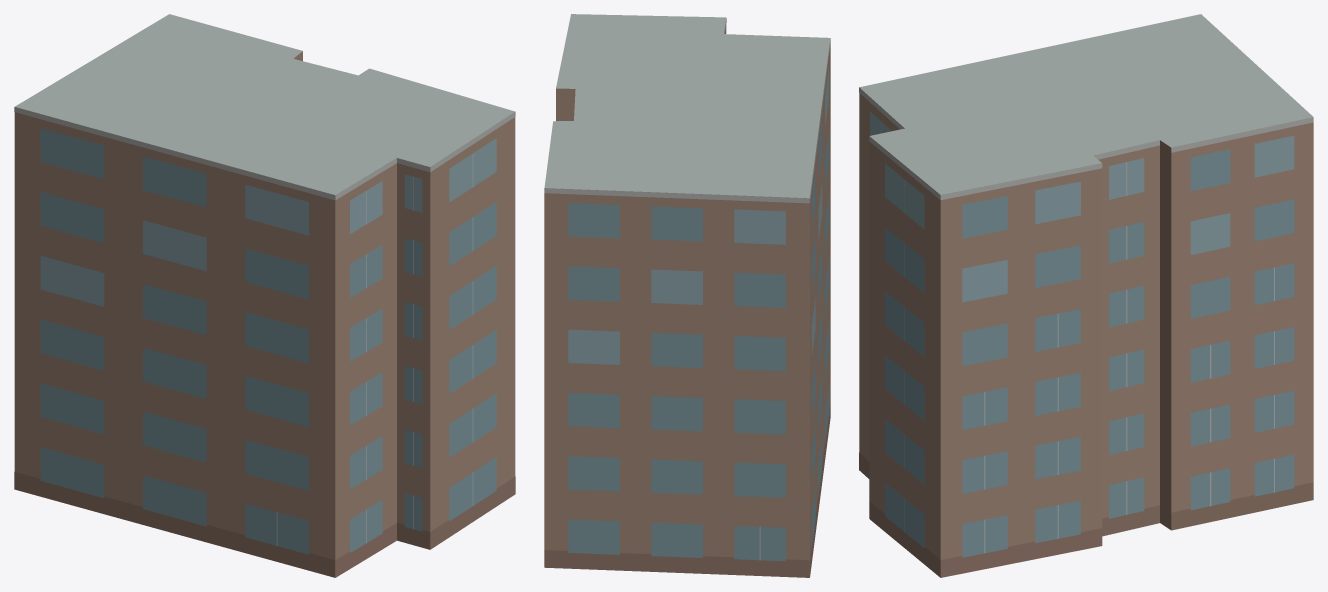
The model's file is survey-upis-32778801.glb.
3 views of the same model, side by side, from view 1: azimuth 30°, elevation 25°; view 2: azimuth 150°, elevation 25°; view 3: azimuth 270°, elevation 25° (orthographic).
Visible parts, largest first — view 1: survey-upis-32778801.tmp; view 2: survey-upis-32778801.tmp; view 3: survey-upis-32778801.tmp.
Boxes of the visible parts, x1,y1,x2,y2 form: survey-upis-32778801.tmp: (14, 14, 515, 577); survey-upis-32778801.tmp: (544, 14, 830, 577); survey-upis-32778801.tmp: (859, 14, 1313, 577).
Size of the model in its own units: 18.16 by 17.9 by 19.27.
